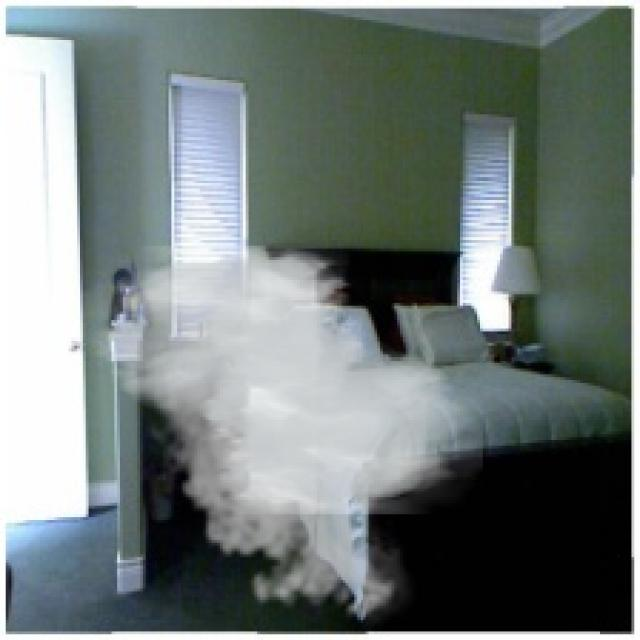smoke: (83, 246, 483, 628)
